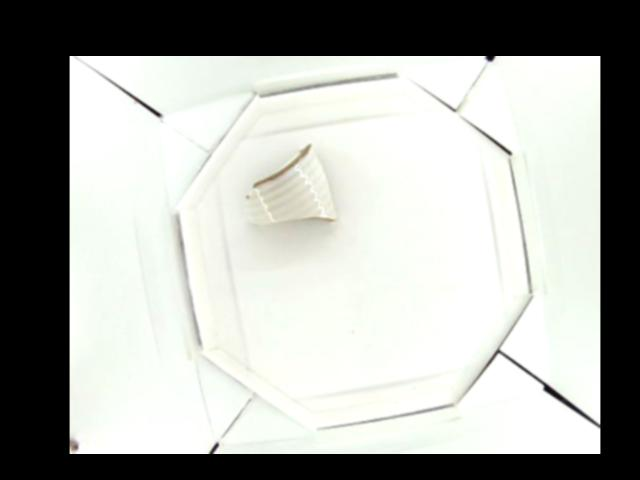China: (242, 143, 340, 225)
